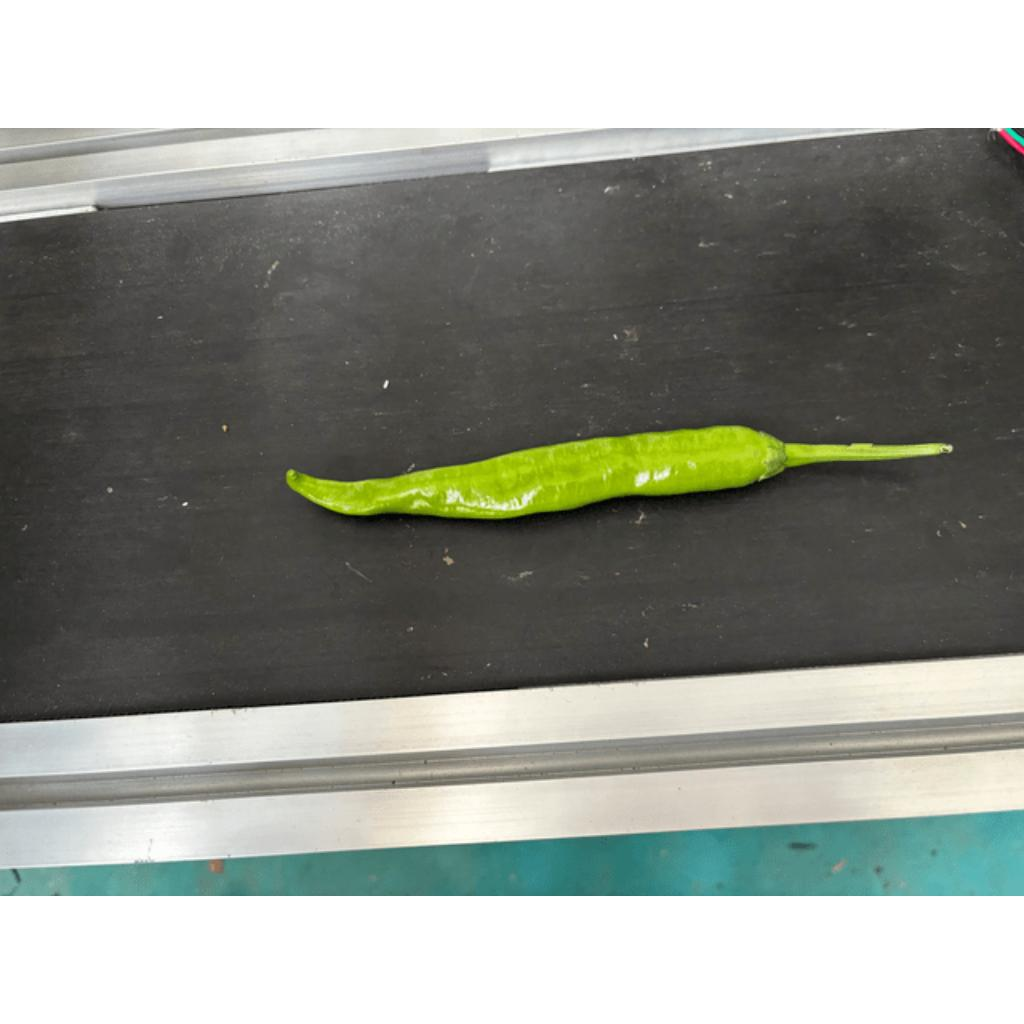chili: (284, 423, 788, 523)
